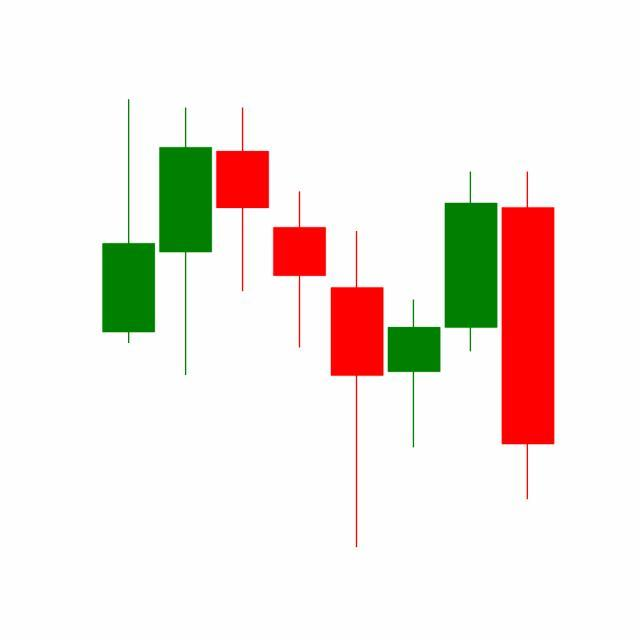Three Inside Up-Down: (328, 167, 500, 549)
